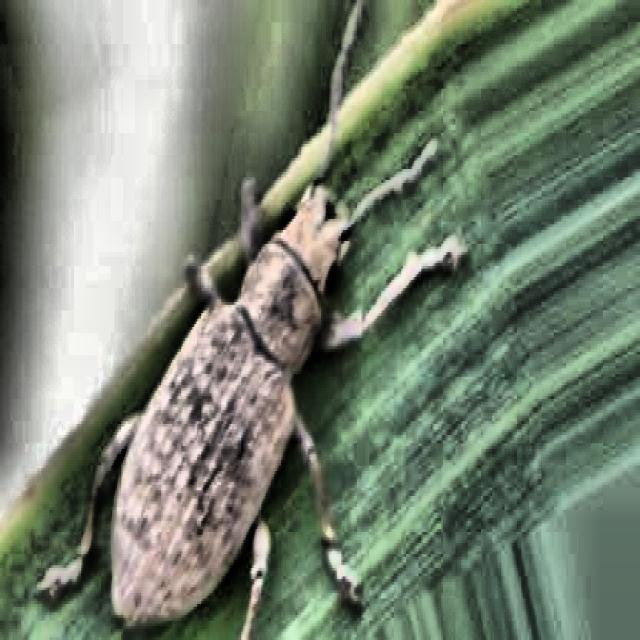Stink bug: (85, 134, 423, 640)
